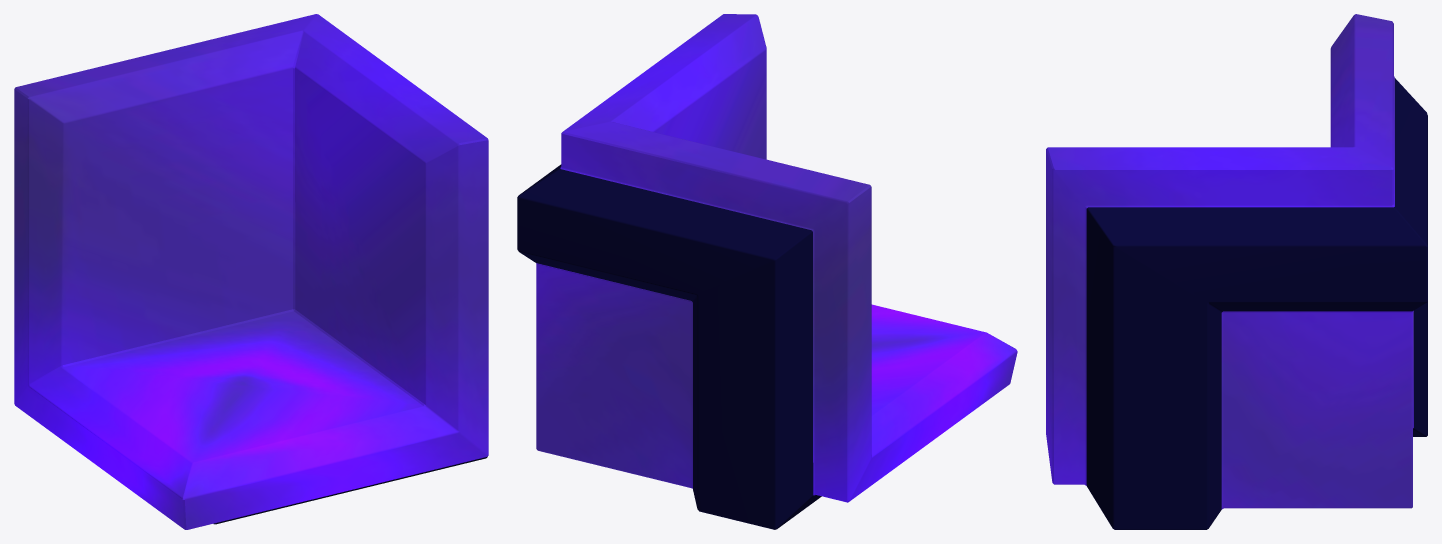
The model's file is corner4.fbx.
3 views of the same model, side by side, from view 1: azimuth 30°, elevation 25°; view 2: azimuth 150°, elevation 25°; view 3: azimuth 270°, elevation 25° (orthographic). The views are drawn at different scales.
Parts seen in each view (by area): view 1: corner4; view 2: corner4; view 3: corner4.
Part boxes in pixels (left/top/right/bottom): corner4: left=14, top=14, right=488, bottom=529; corner4: left=517, top=14, right=1017, bottom=529; corner4: left=1046, top=14, right=1427, bottom=529.
Size of the model in its own units: 153 by 153 by 150.
